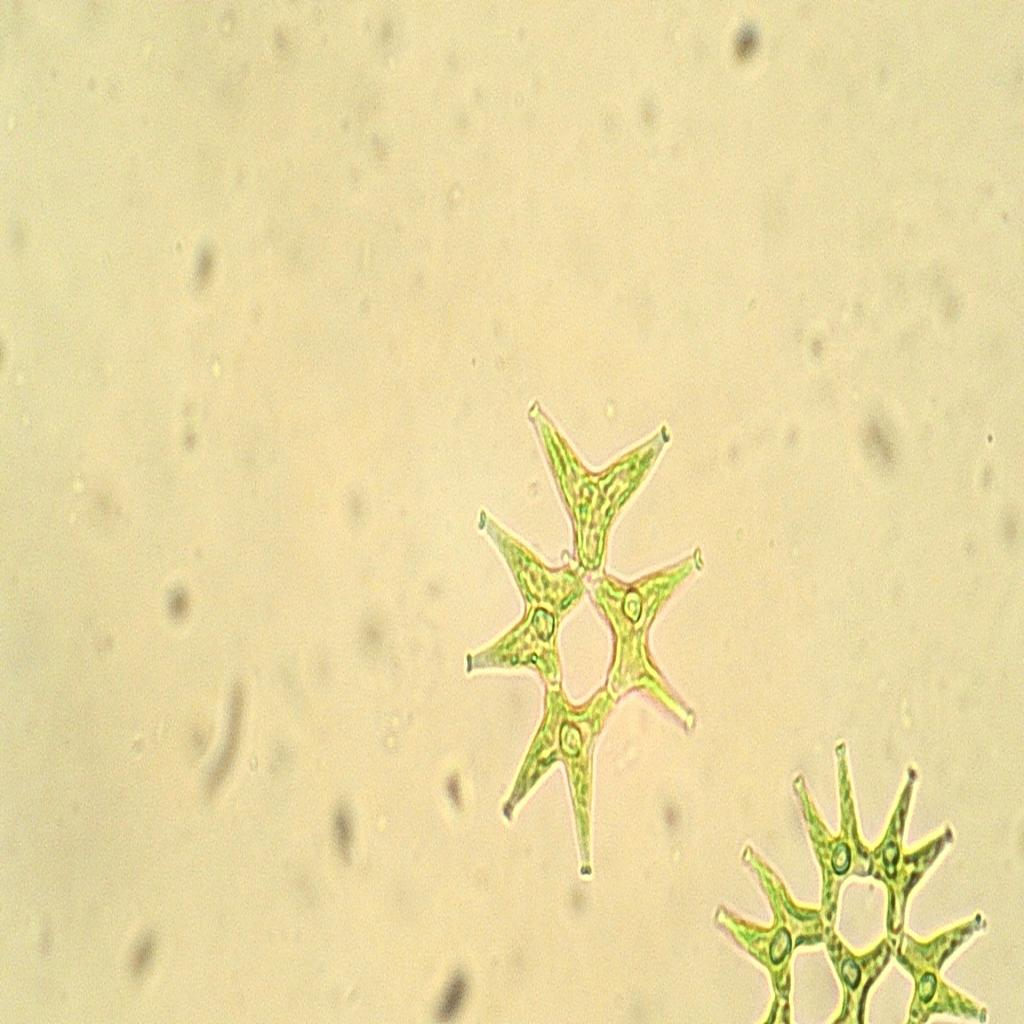Pediastrum_75FI: (433, 358, 716, 916)
